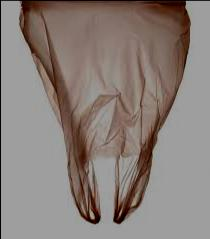Plastic: (15, 1, 198, 231)
